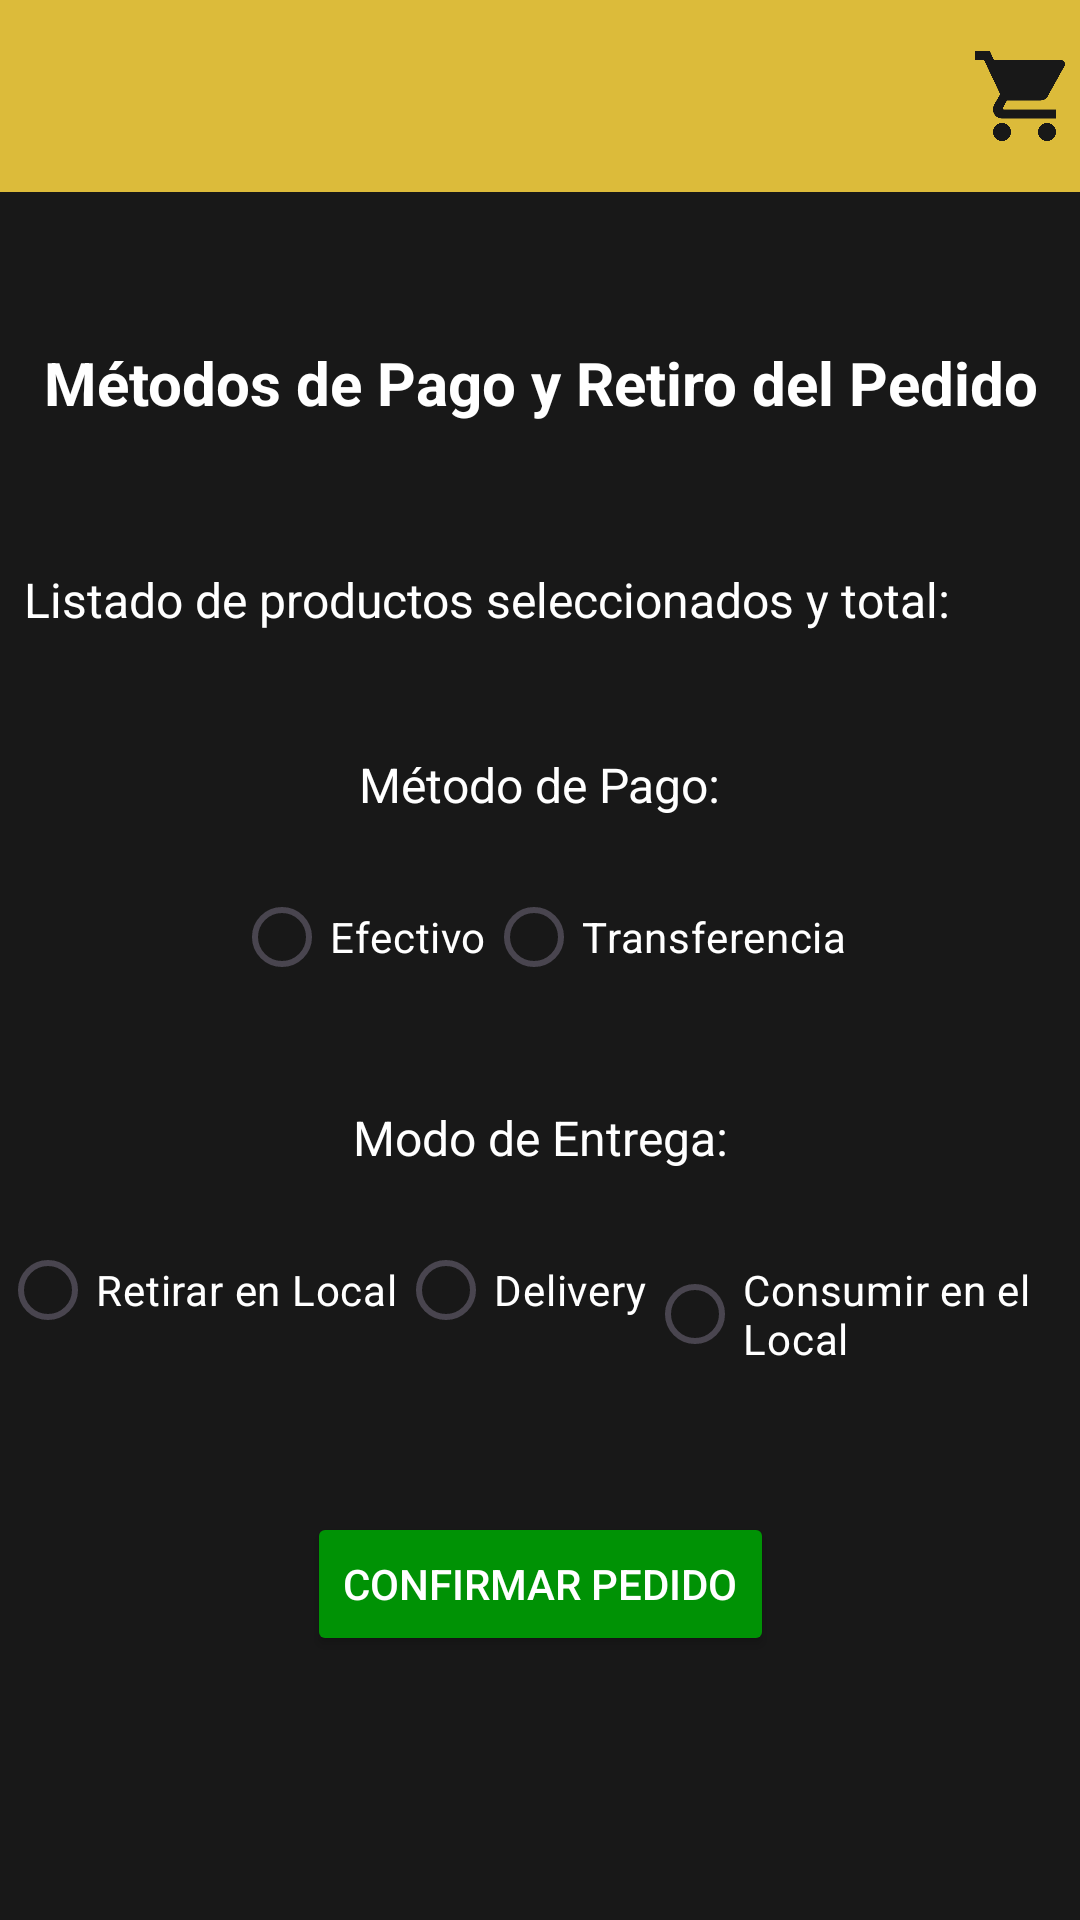

Locate icon controls on the screen. Image size 1080x1920, boxes as detection(x1, y1, x2, y2).
carro: detection(975, 51, 1065, 141)
